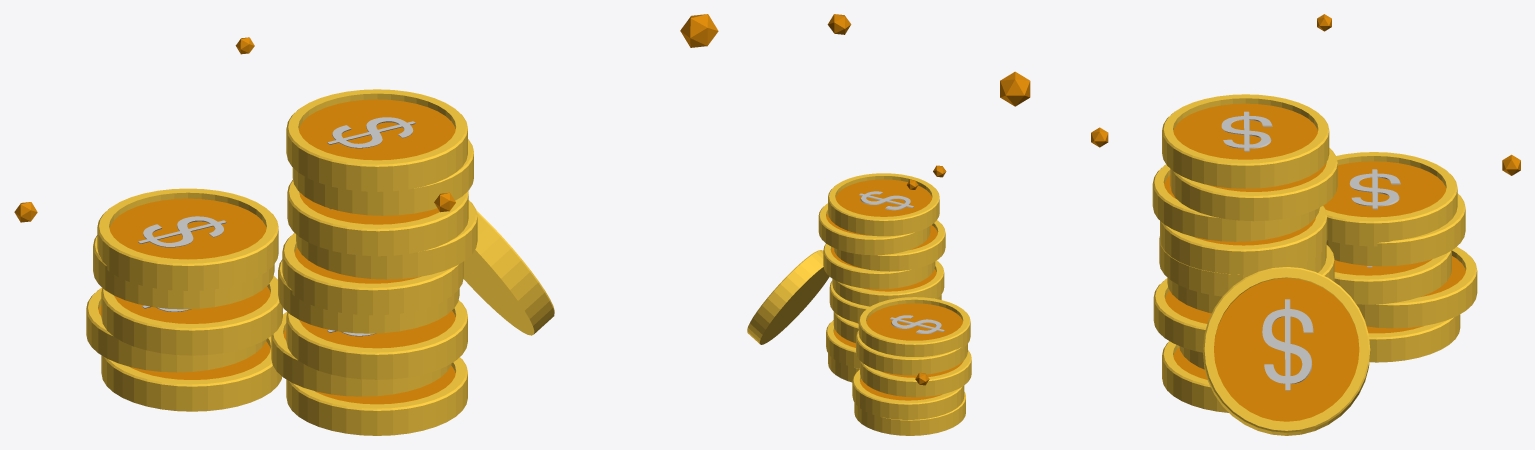
3 renders of one model, left to right at view 1: azimuth 30°, elevation 25°; view 2: azimuth 150°, elevation 25°; view 3: azimuth 270°, elevation 25°, orthographic. The views are drawn at different scales.
Visible parts, largest first — view 1: 圆柱 (×15), 挤压 (×2), 宝石; view 2: 圆柱 (×15), 挤压 (×2), 宝石; view 3: 圆柱 (×14), 挤压 (×3), 宝石.
Part boxes in pixels (x1,y1,x2,y2): 圆柱 (×15): (86, 89, 554, 435); 挤压 (×2): (138, 117, 415, 247); 宝石: (680, 14, 718, 47); 圆柱 (×15): (747, 173, 971, 435); 挤压 (×2): (859, 191, 944, 333); 宝石: (827, 14, 851, 34); 圆柱 (×14): (1152, 94, 1477, 435); 挤压 (×3): (1221, 111, 1400, 390); 宝石: (1000, 71, 1030, 106).
Bounding box in the file's own units: 188 × 179 × 216.
